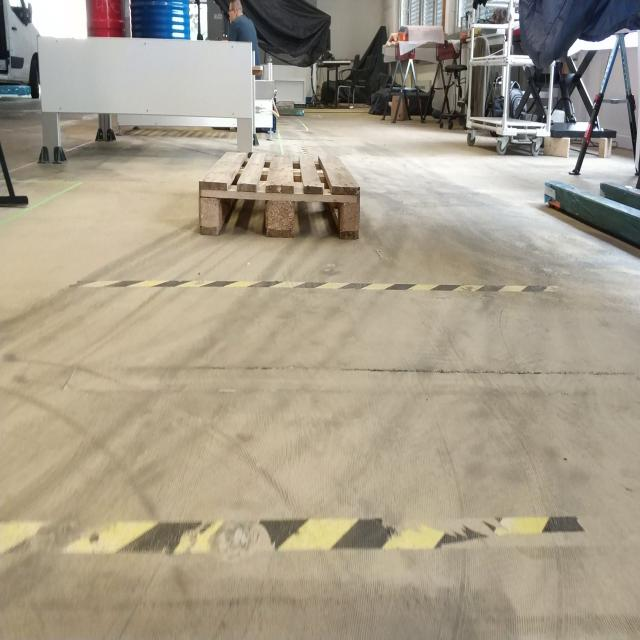block: (263, 187, 296, 240), (194, 184, 226, 236), (339, 185, 363, 244)
front: (195, 180, 362, 245)
